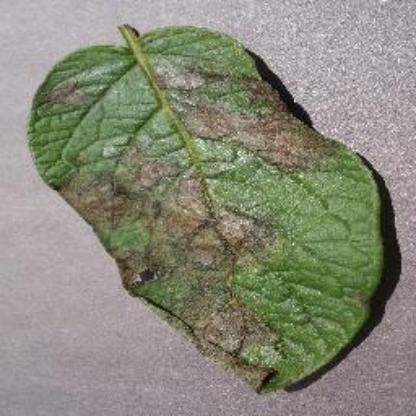Late-Blight: (19, 11, 401, 403)
